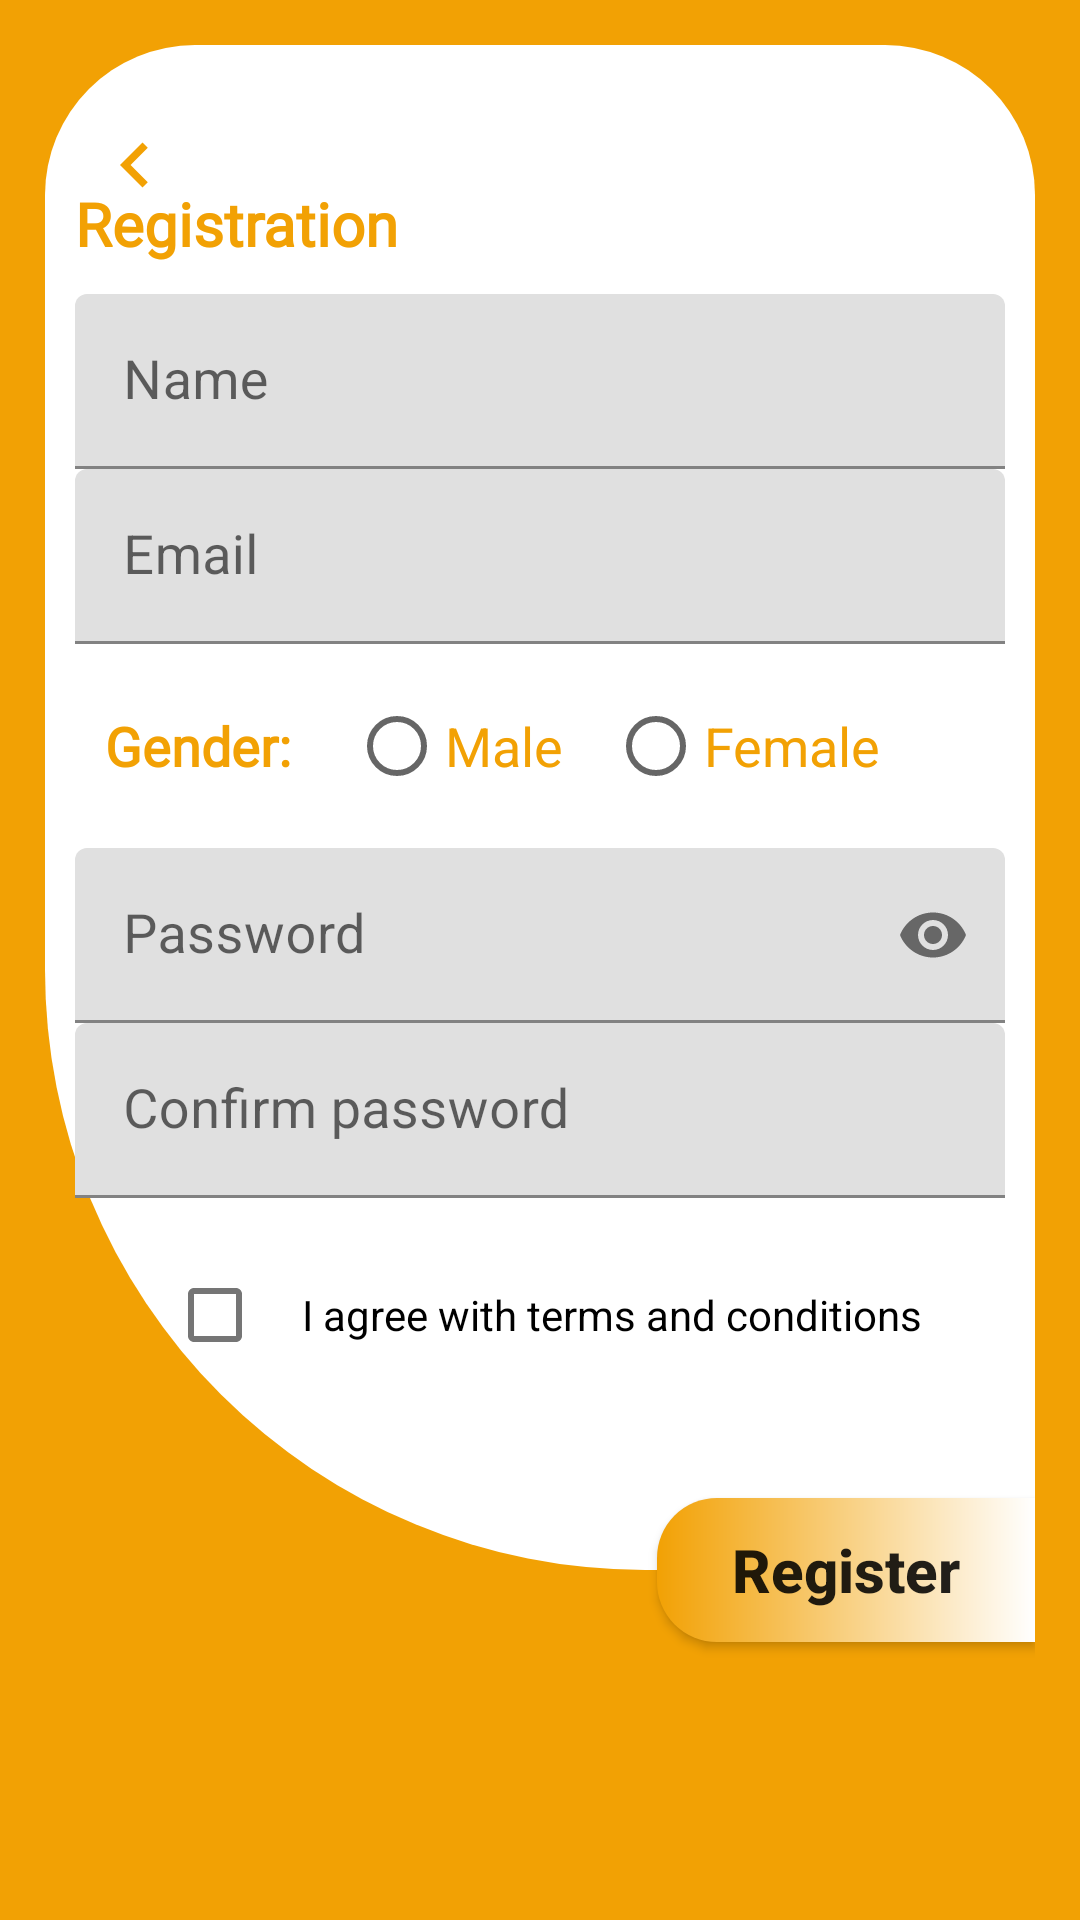

Named icons in this screenshot (1080*1920) and their centers, (x,y):
chevron left: (134,165)
